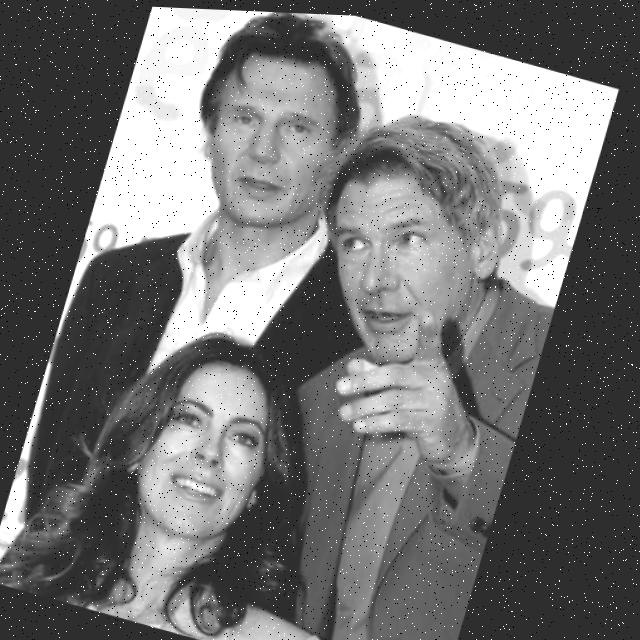face: (283, 88, 539, 402), (94, 318, 308, 564), (170, 10, 370, 251)
